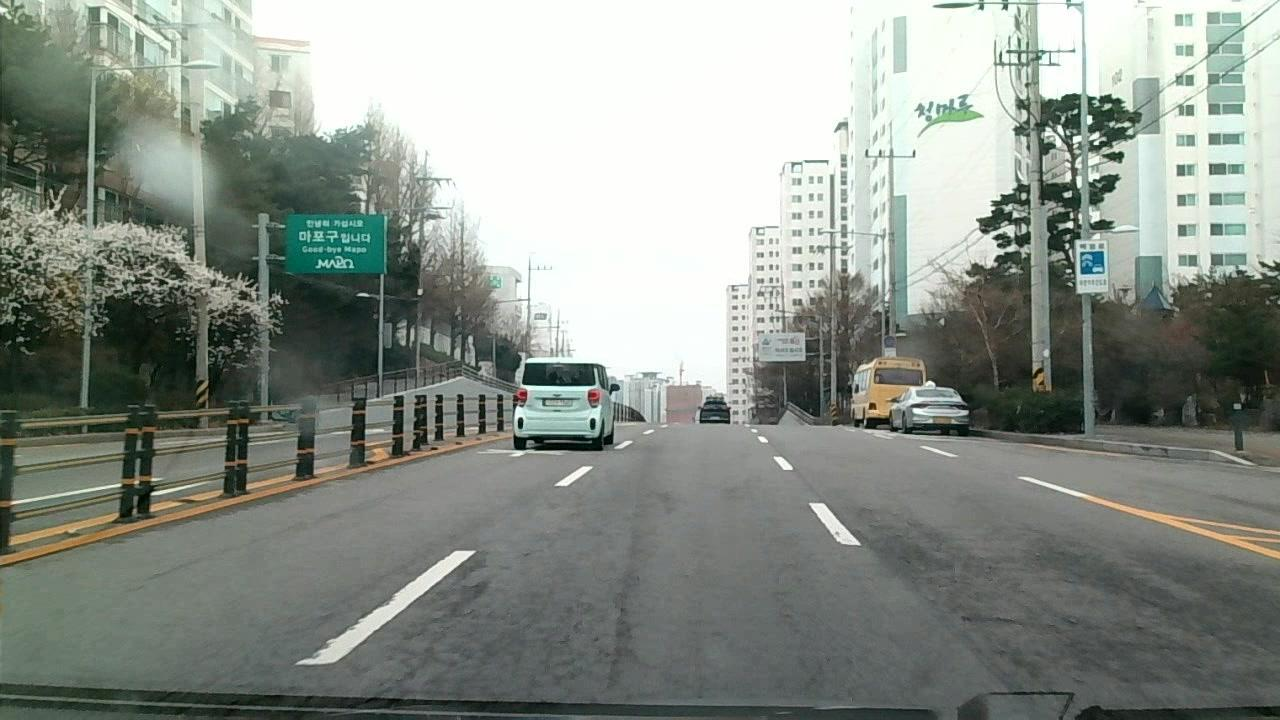erosion: (884, 527, 1258, 680), (348, 540, 592, 709)
vcrack: (606, 552, 633, 695)
